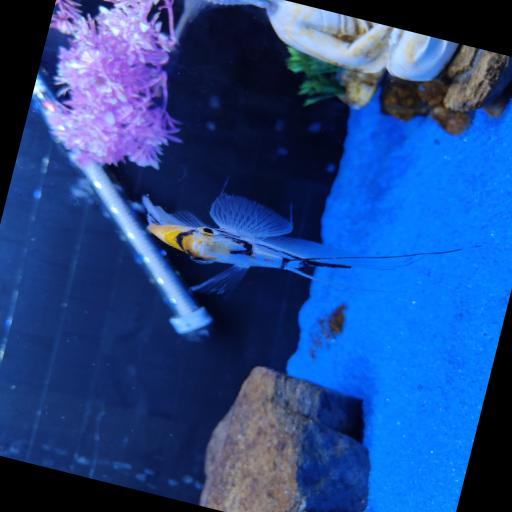Fish: (143, 192, 460, 293)
